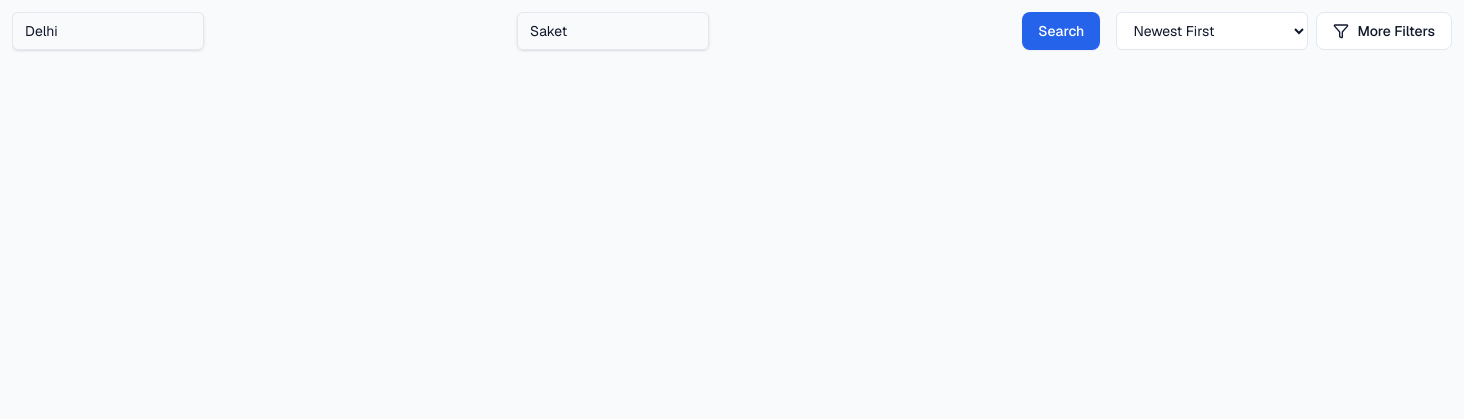
Scenario: PropertyFilters component › clears all filters and resets URL to /properties
# Open advanced panel to access "Clear All"
Step 1. Click the button "More Filters" → (1384, 31), box x1=1316 y1=12 x2=1452 y2=50
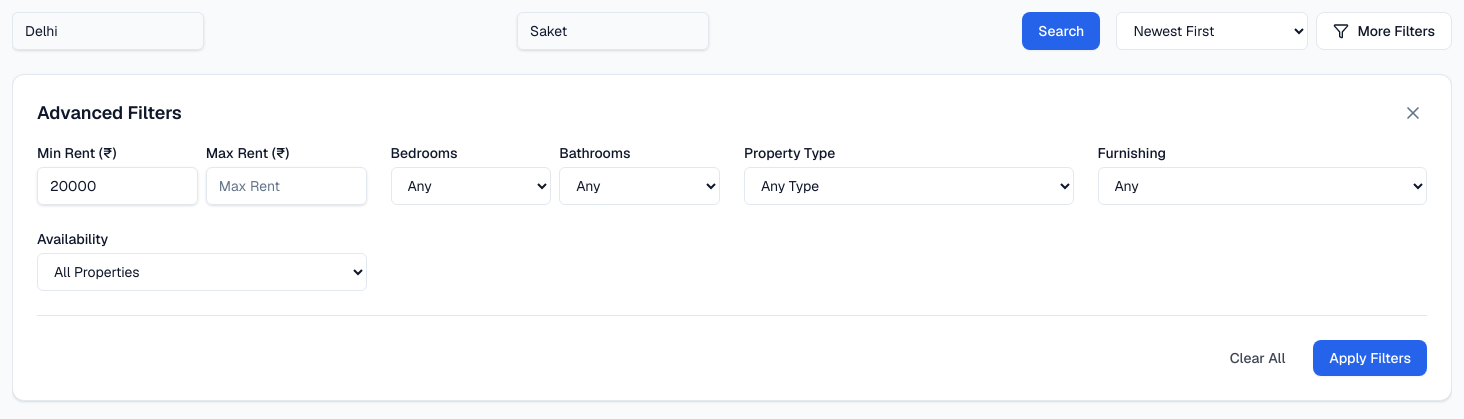
Step 2. Click the button "Clear All" → (1258, 358), box x1=1214 y1=340 x2=1301 y2=376
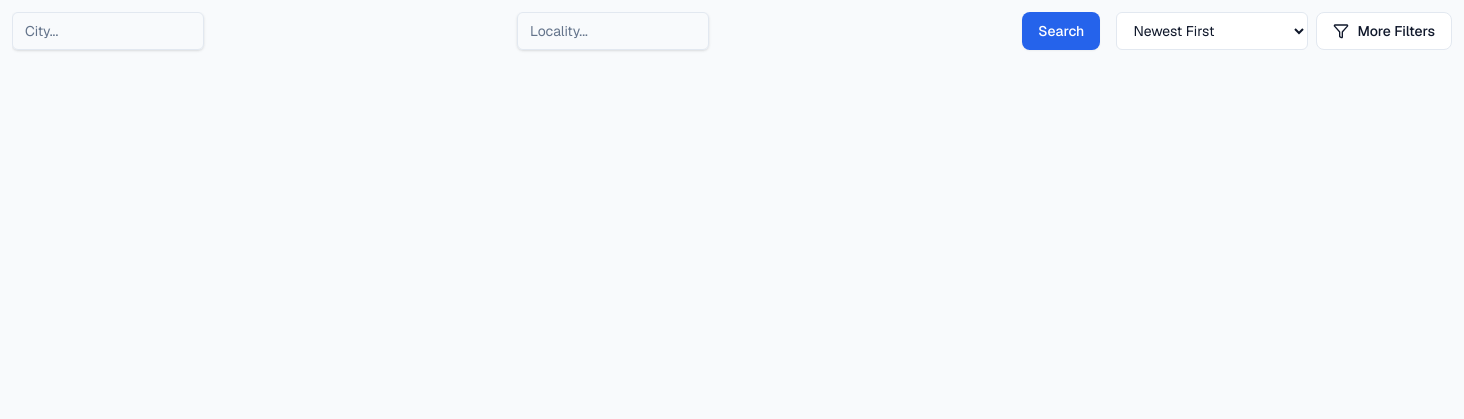
Now the heading "Advanced Filters" is gone
